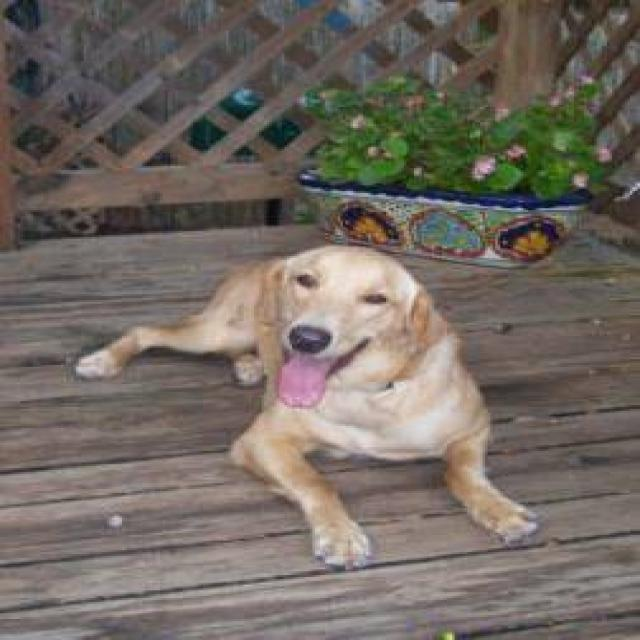dog: (71, 243, 541, 571)
